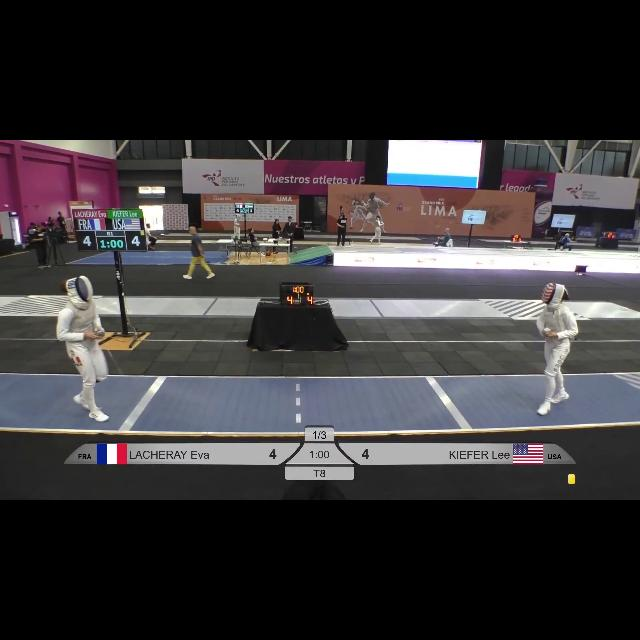blade: (95, 328, 125, 378), (542, 327, 554, 359)
